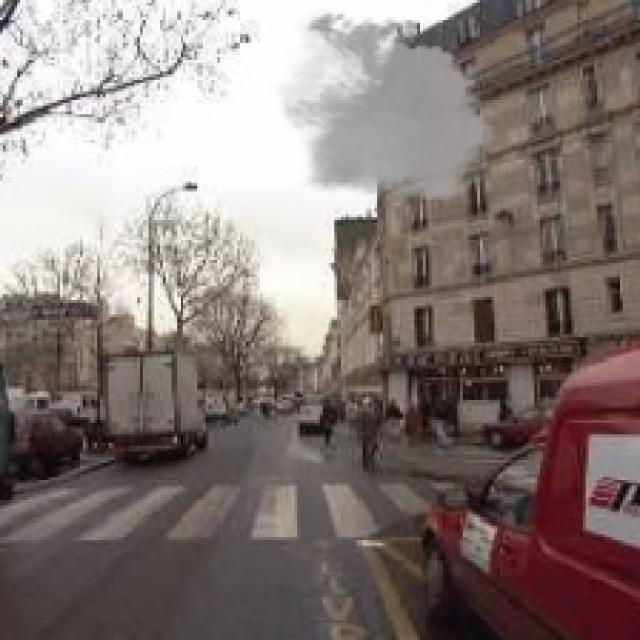Smoke: (268, 5, 503, 208)
